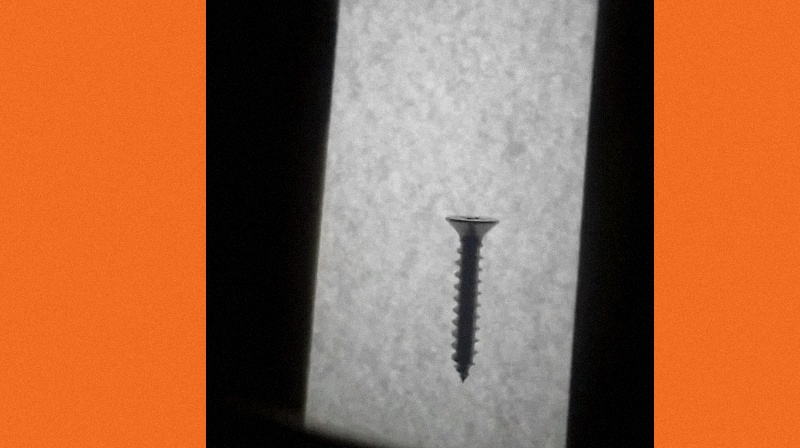S001: (446, 211, 500, 387)
